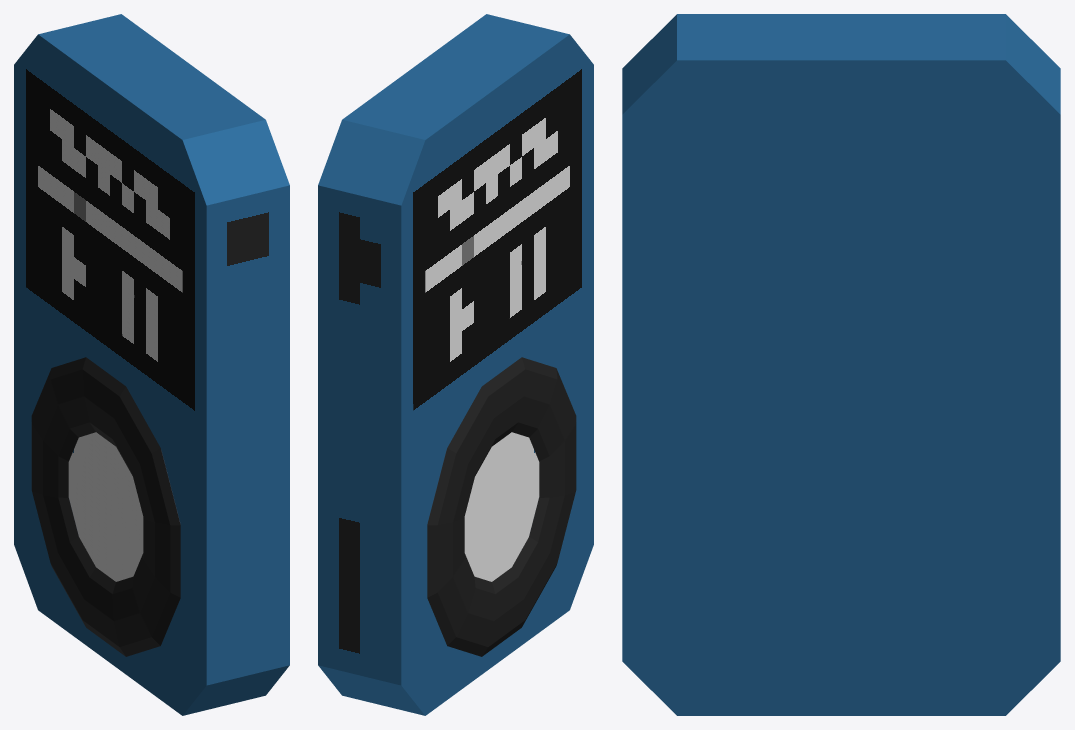
File: Pleer.fbx
The picture shows the model from 3 angles, left to right: view 1: azimuth 30°, elevation 25°; view 2: azimuth 150°, elevation 25°; view 3: azimuth 270°, elevation 25°; orthographic projection. The views are drawn at different scales.
Parts seen in each view (by area): view 1: cuboid, torus; view 2: cuboid, torus; view 3: cuboid.
Part boxes in pixels (x1,y1,x2,y2): cuboid: [14, 14, 289, 715]; torus: [31, 357, 180, 656]; cuboid: [318, 14, 593, 715]; torus: [427, 357, 576, 656]; cuboid: [622, 14, 1060, 715].
Bounding box in the file's own units: 14.19 × 82.5 × 50.
1 material, 1 textured.
